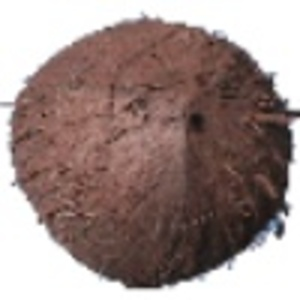coco: (9, 13, 300, 289)
